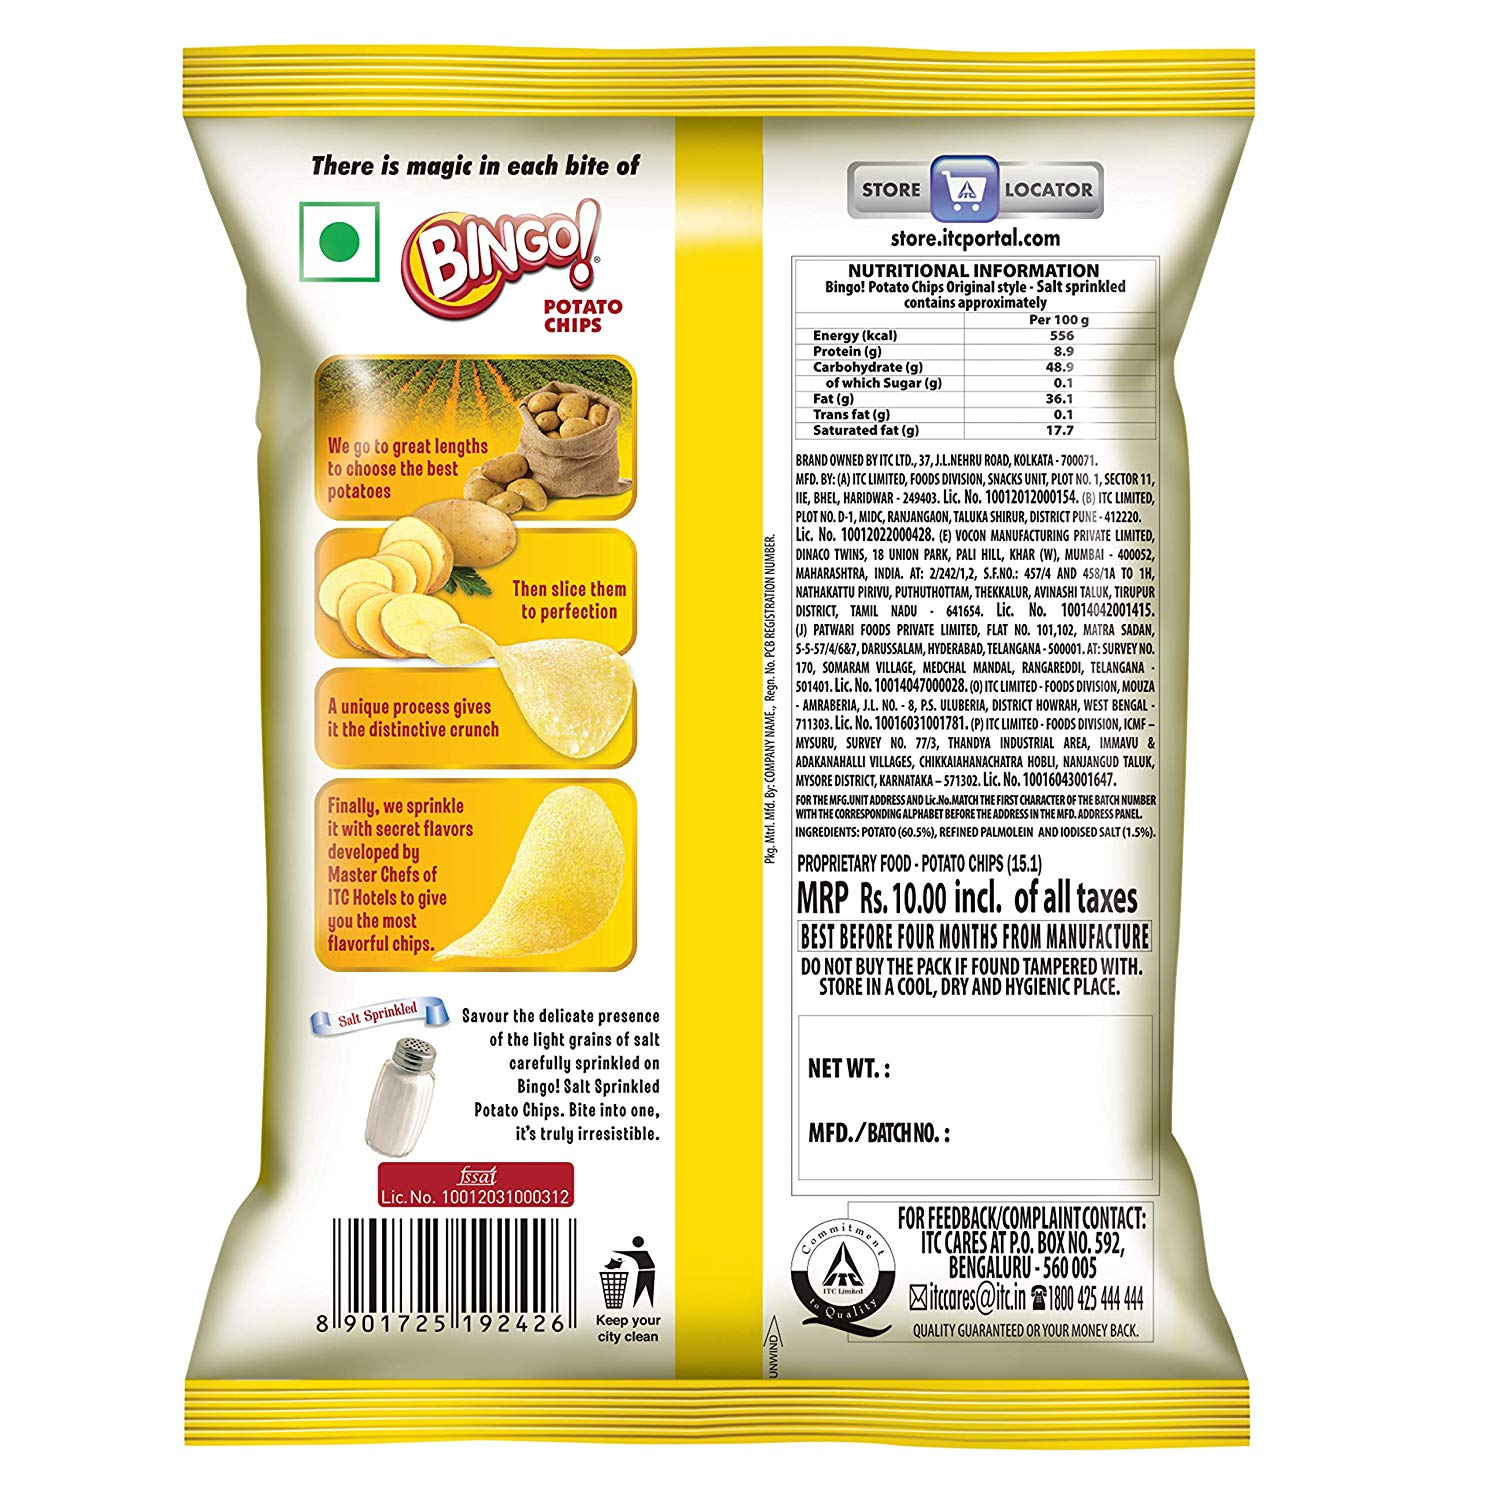VEG: (293, 195, 383, 286)
